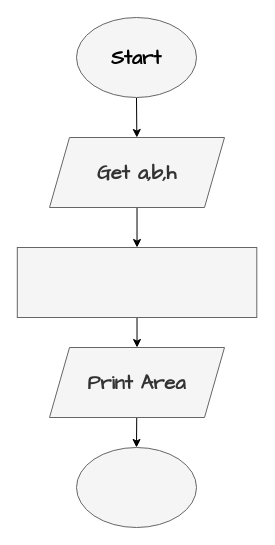
The diagram is 275 pixels wide and 545 high, and some of its shapes have lost their labels. The box of each missing label's shape, as (x1, y1, x2, y2) in pixels:
Area = ((a+b)/2.0) * h: (16, 246, 257, 318)
End: (76, 446, 196, 528)
